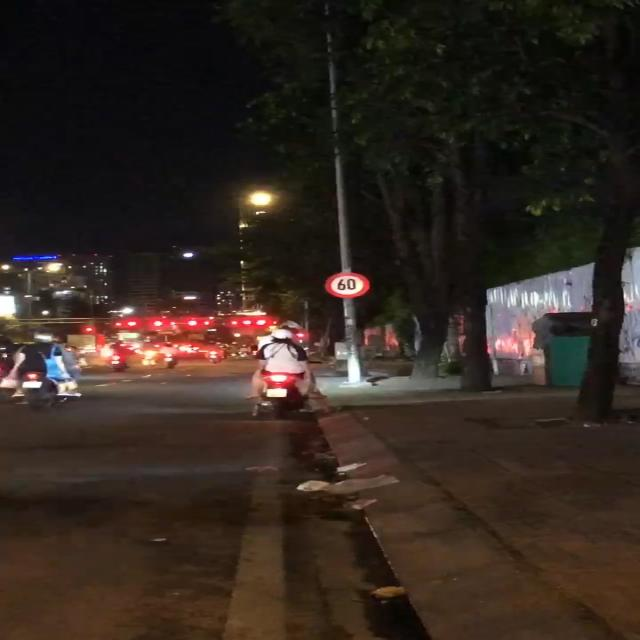Bien bao toc do toi da cho phep: (323, 268, 370, 298)
